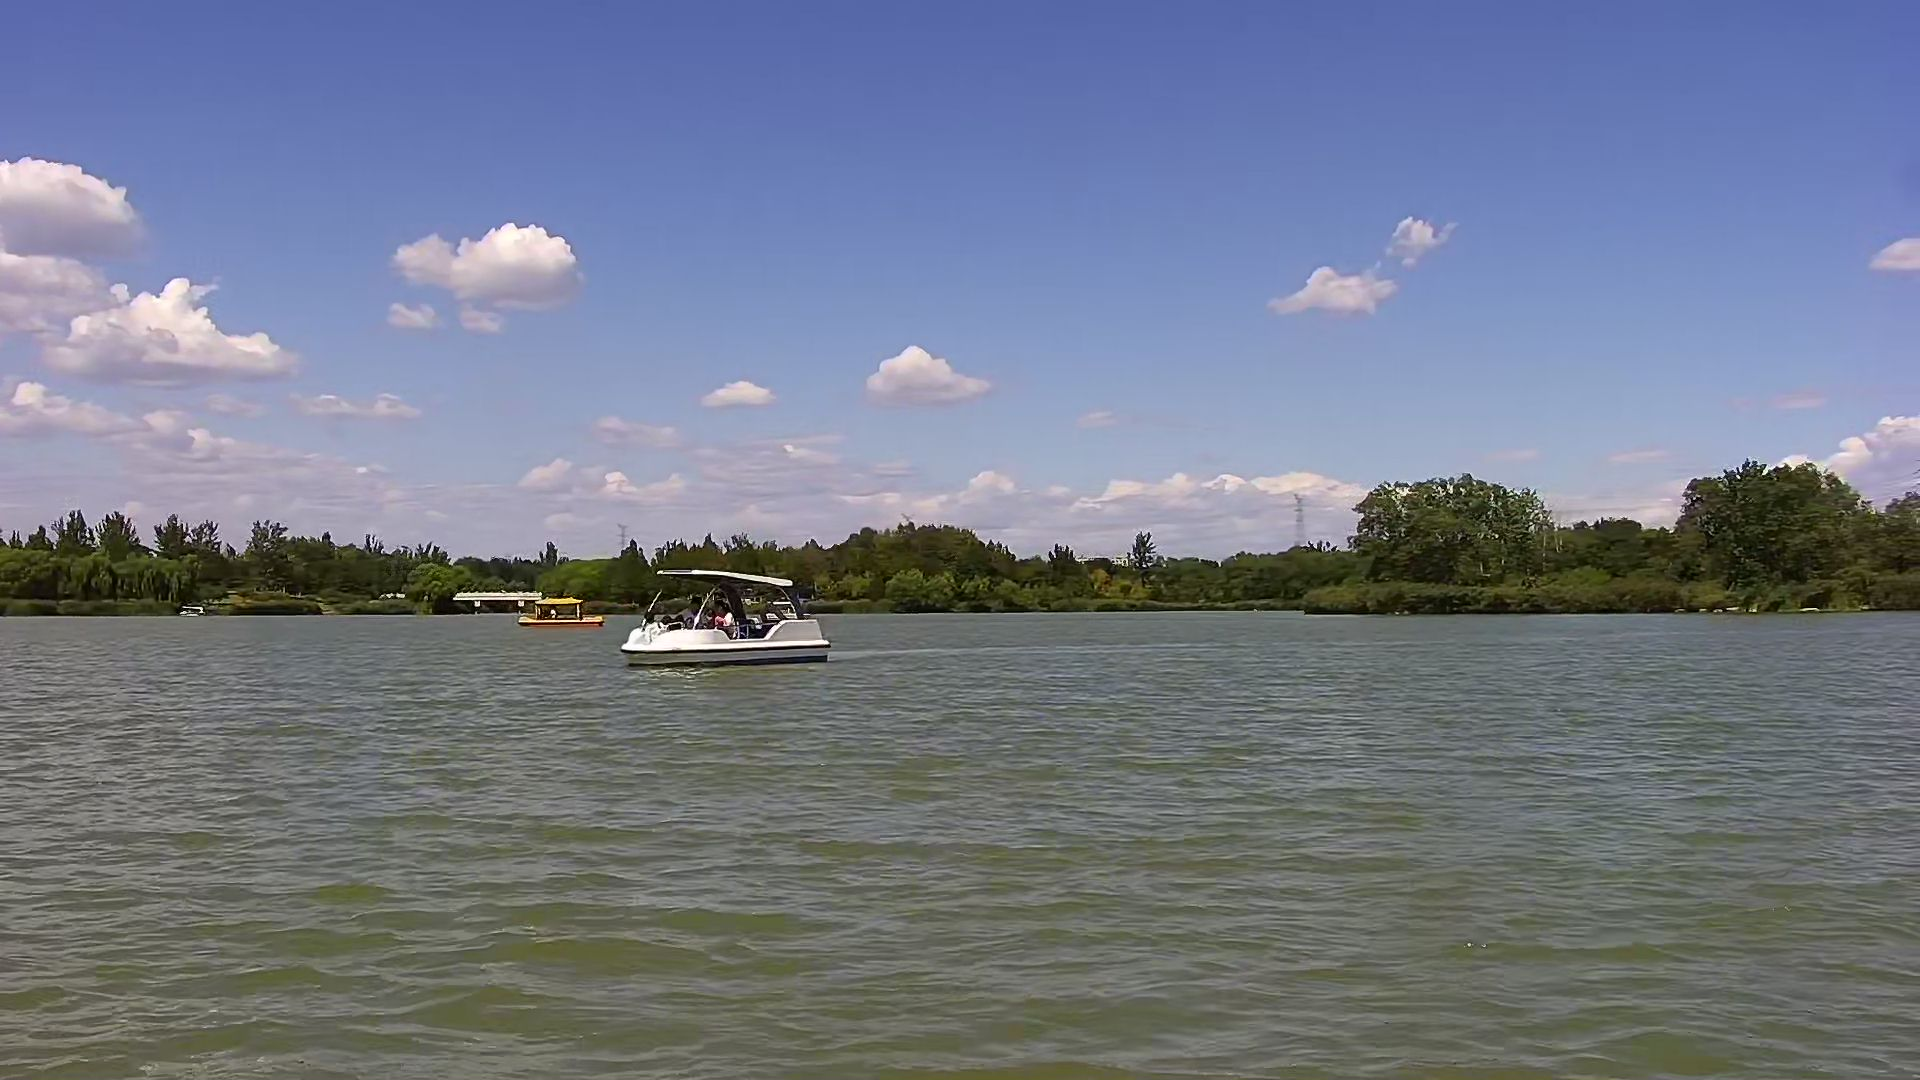boat: (622, 568, 825, 675), (522, 597, 607, 626)
bridge: (456, 587, 541, 617)
